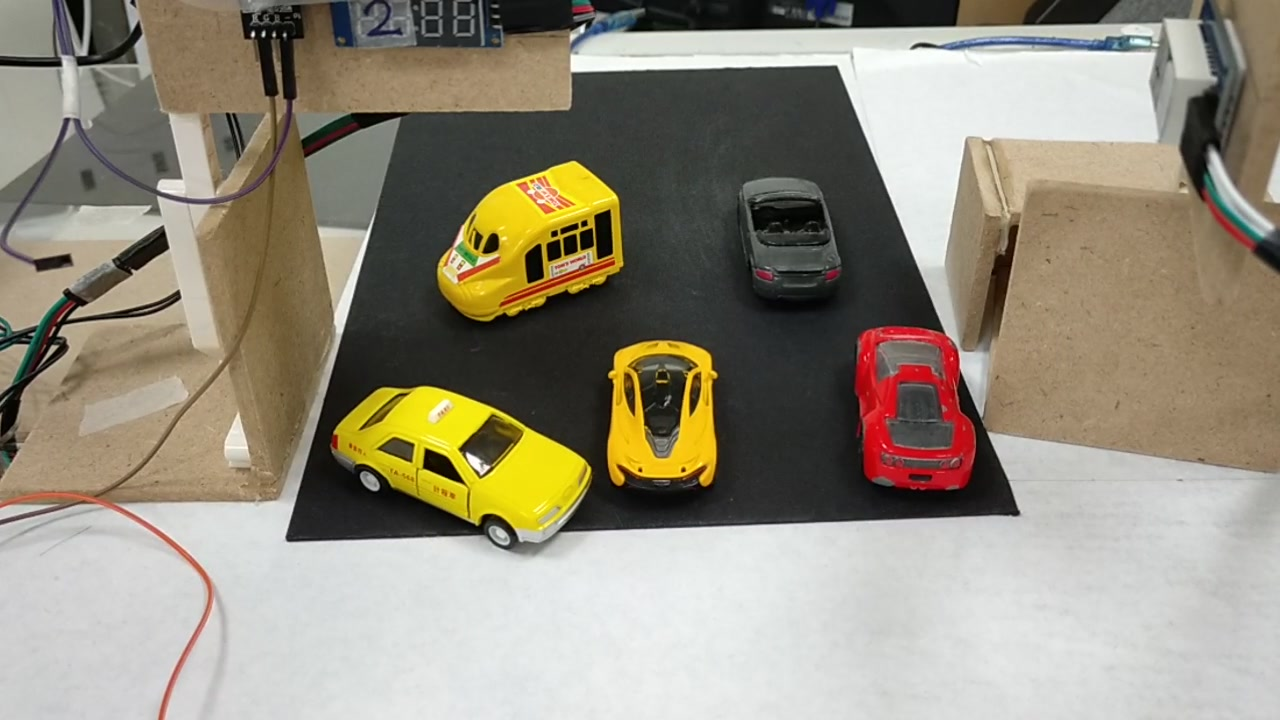car: (331, 383, 588, 554), (859, 324, 979, 494), (607, 342, 716, 486), (738, 179, 842, 301)
